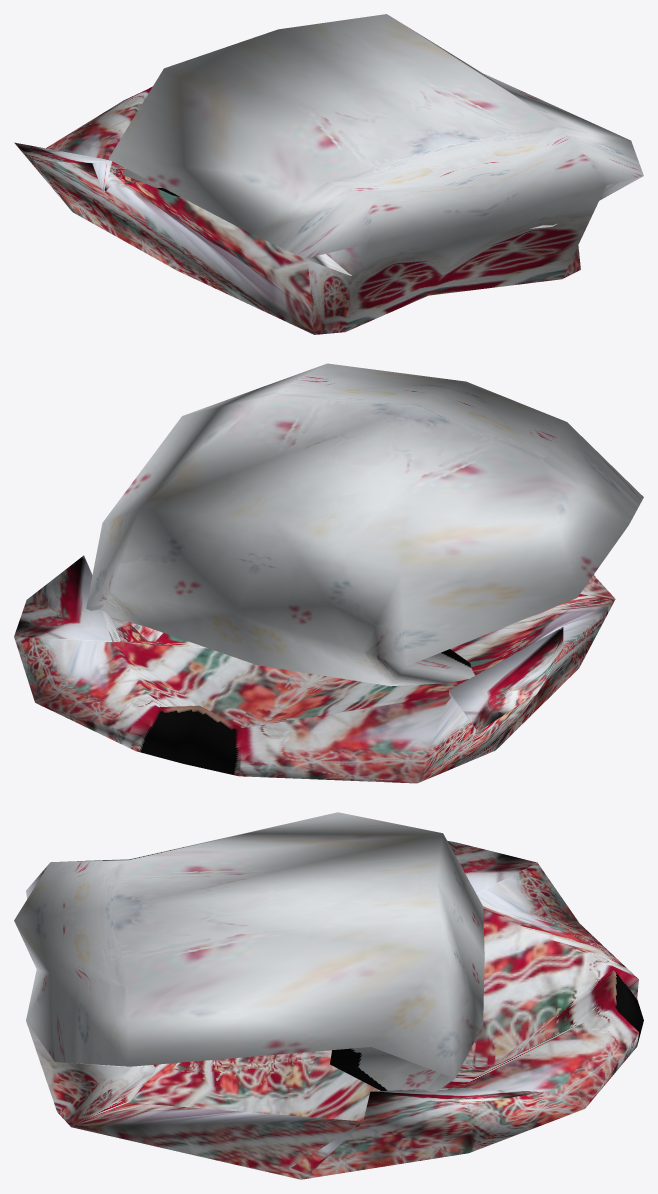
Rendered from Clothes.fbx.
3 renders of one model, top to bottom at view 1: azimuth 30°, elevation 25°; view 2: azimuth 150°, elevation 25°; view 3: azimuth 270°, elevation 25°, orthographic. The views are drawn at different scales.
Visible parts, largest first — view 1: HumanoidBase_NotOverlapping.054; view 2: HumanoidBase_NotOverlapping.054; view 3: HumanoidBase_NotOverlapping.054.
Part boxes in pixels (x1,y1,x2,y2): HumanoidBase_NotOverlapping.054: (14,14,643,334); HumanoidBase_NotOverlapping.054: (14,363,643,783); HumanoidBase_NotOverlapping.054: (14,812,643,1179).
Size of the model in its own units: 33.69 by 13.84 by 36.6.
